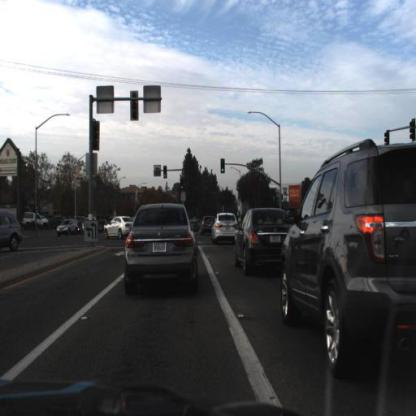car: (280, 139, 416, 381), (281, 139, 416, 381), (121, 204, 200, 301), (238, 210, 295, 289), (246, 207, 282, 252), (212, 208, 242, 248), (1, 211, 23, 253), (106, 213, 133, 237), (56, 216, 80, 238), (199, 210, 215, 240), (244, 208, 258, 234), (57, 217, 77, 235), (84, 217, 96, 233)
trafficLight: (129, 90, 138, 121), (93, 123, 101, 152), (383, 132, 391, 149)
trafficLight-Green: (220, 157, 228, 176), (163, 165, 170, 181), (179, 178, 187, 191), (164, 165, 169, 181), (181, 178, 186, 194), (221, 159, 226, 173), (273, 192, 278, 205)
truck: (23, 212, 50, 232)
